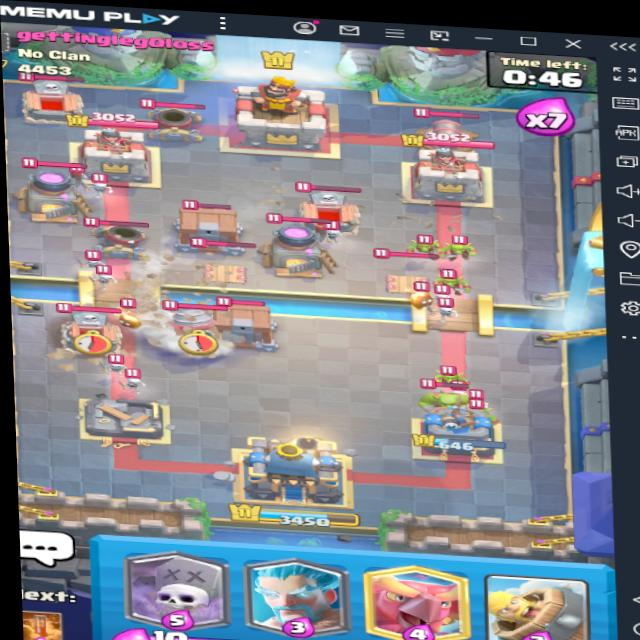Cannon: (408, 104, 483, 162)
Firespirit: (109, 302, 148, 327), (403, 283, 436, 312)
Furnace: (253, 210, 348, 279), (11, 157, 89, 218)
Goblin: (444, 227, 483, 262), (436, 265, 474, 293), (430, 360, 469, 387), (408, 230, 439, 255)
Goblinbrawler: (415, 378, 480, 422)
Goblincage: (158, 196, 253, 258), (201, 288, 281, 352)
Goblindrill: (151, 297, 230, 360)
Mortar: (78, 210, 153, 266), (138, 94, 209, 144)
Skeleton: (68, 249, 104, 270), (425, 289, 457, 312), (84, 169, 116, 191), (119, 367, 147, 390), (97, 354, 128, 372), (432, 299, 457, 319), (91, 269, 118, 286)
Teslahidden: (190, 234, 264, 286), (373, 246, 444, 298)
Tombstone: (49, 300, 132, 354), (19, 72, 99, 128), (293, 178, 368, 232)
